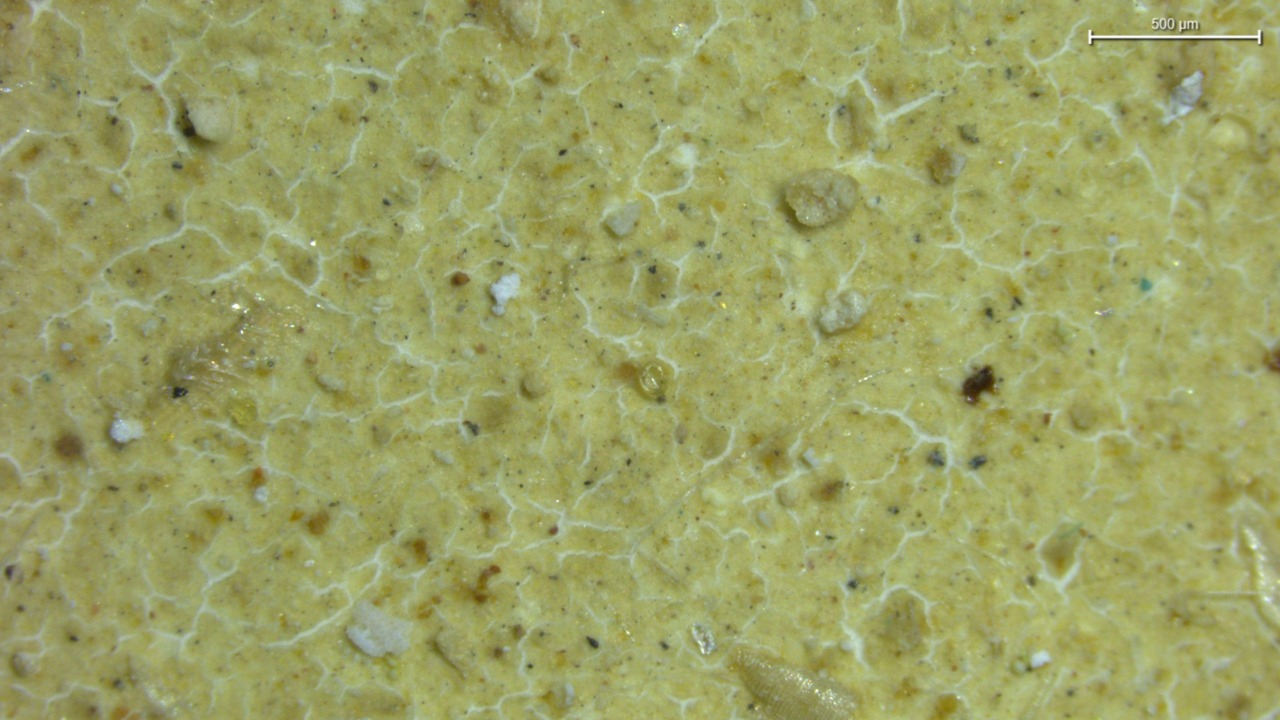microplastic_fragment: (347, 595, 415, 660), (787, 170, 858, 227), (821, 283, 869, 332), (189, 100, 233, 141), (491, 273, 520, 317), (607, 202, 642, 237), (109, 420, 144, 445)
